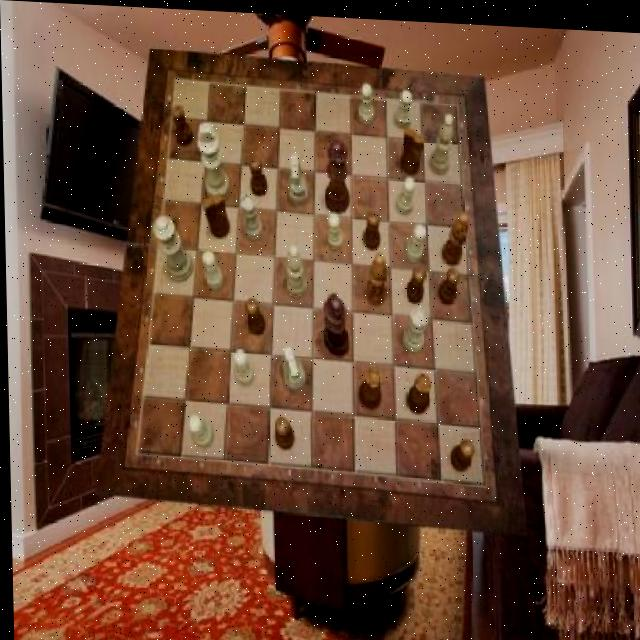bishop: (441, 207, 469, 262), (364, 247, 386, 302)
black-bishop: (322, 290, 347, 353)
black-king: (202, 189, 230, 236), (400, 122, 425, 171)
black-knight: (172, 104, 194, 145), (449, 435, 474, 468), (438, 262, 459, 301), (245, 295, 266, 333), (404, 261, 425, 299), (273, 414, 294, 449), (362, 208, 380, 248), (249, 155, 267, 194)
black-pawn: (324, 135, 350, 210)
black-queen: (405, 368, 430, 411), (357, 364, 381, 406)
black-rook: (429, 108, 455, 171), (284, 242, 306, 297)
white-bishop: (197, 120, 231, 203)
white-king: (288, 150, 309, 203), (281, 342, 305, 388)
white-knight: (187, 412, 212, 447), (232, 346, 253, 385), (201, 248, 222, 287), (405, 220, 426, 259), (395, 173, 416, 212), (358, 79, 376, 122), (395, 85, 413, 125), (326, 208, 344, 247)
white-pawn: (151, 214, 192, 281)
white-queen: (400, 304, 426, 349), (240, 191, 263, 238)
